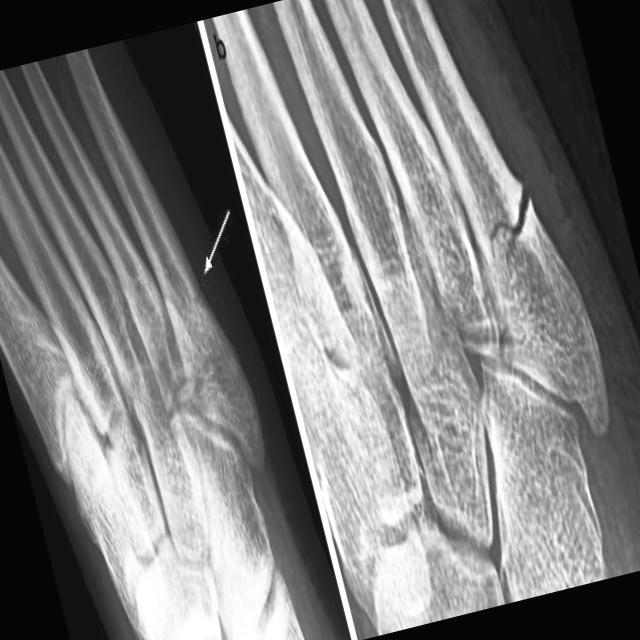HairLine Fracture: (477, 177, 538, 249), (181, 272, 208, 314)
